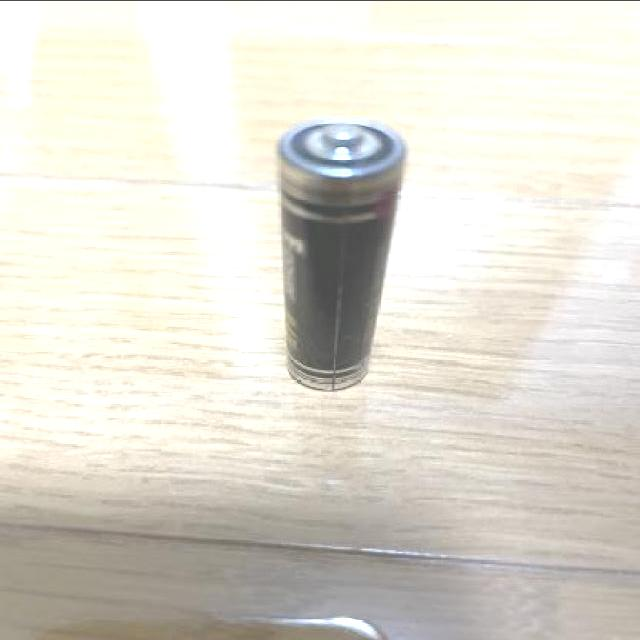AA: (262, 104, 426, 398)
